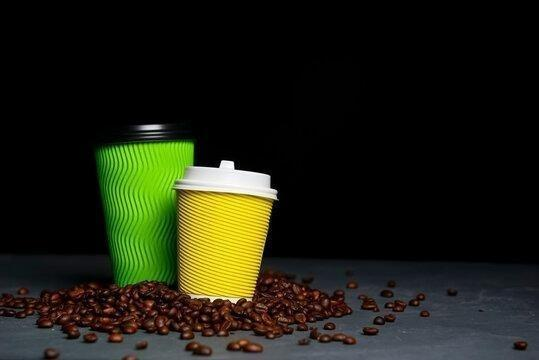cup-disposable: (91, 114, 197, 296), (171, 158, 280, 306)
